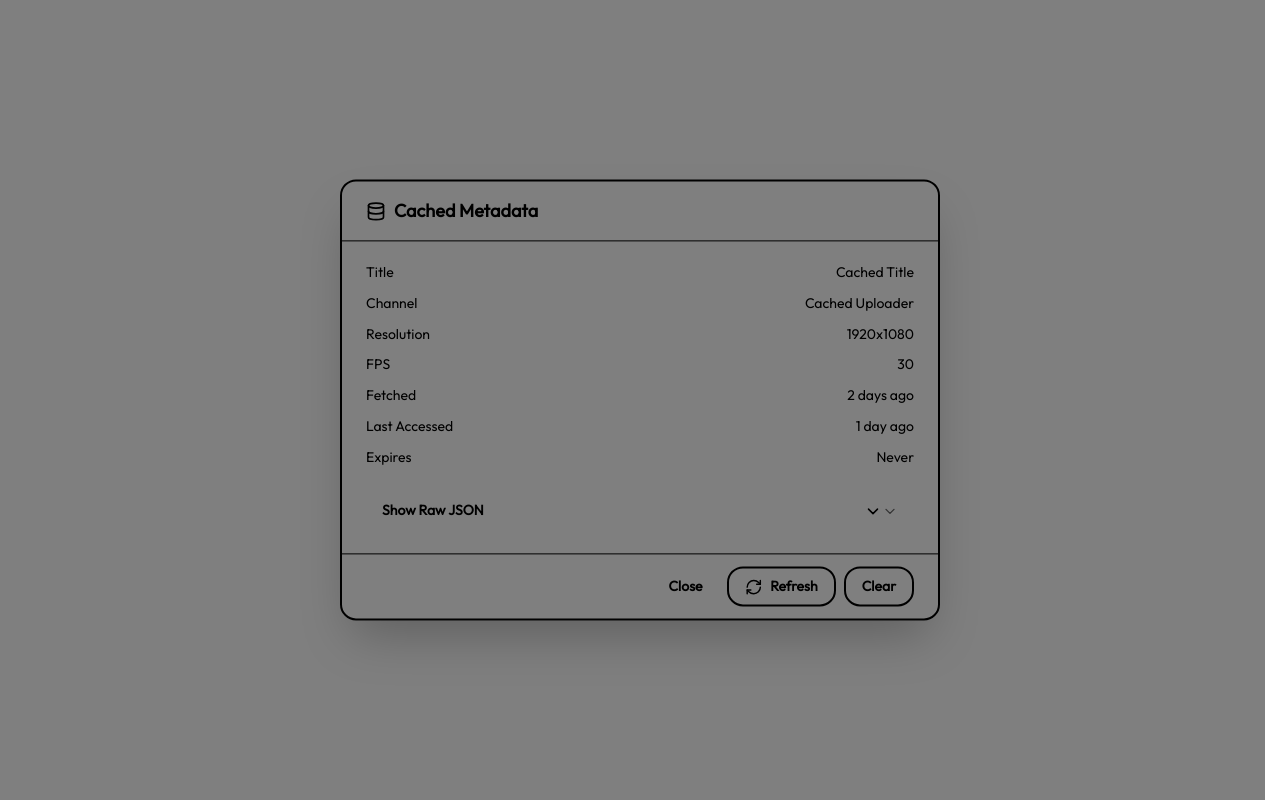
Test case: CacheDetailDialog › metadata kind › refresh › shows the refreshed values
The width and height of the screenshot is (1280, 800).
Expected: the text "Cached Title" is shown, [836,261,914,284]
Click the button "Refresh".
click(781, 587)  # box [727,567,836,607]
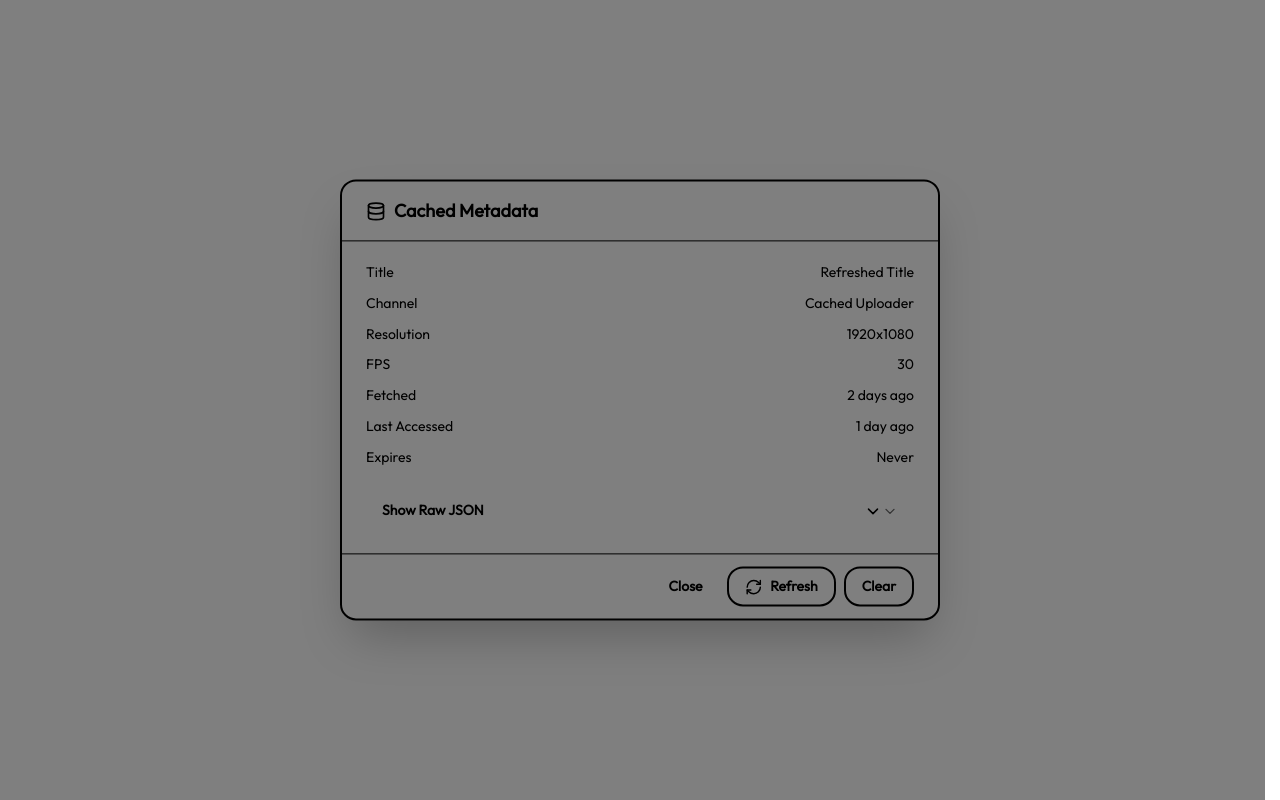
Now the text "Refreshed Title" is shown, box [820,261,914,284]
